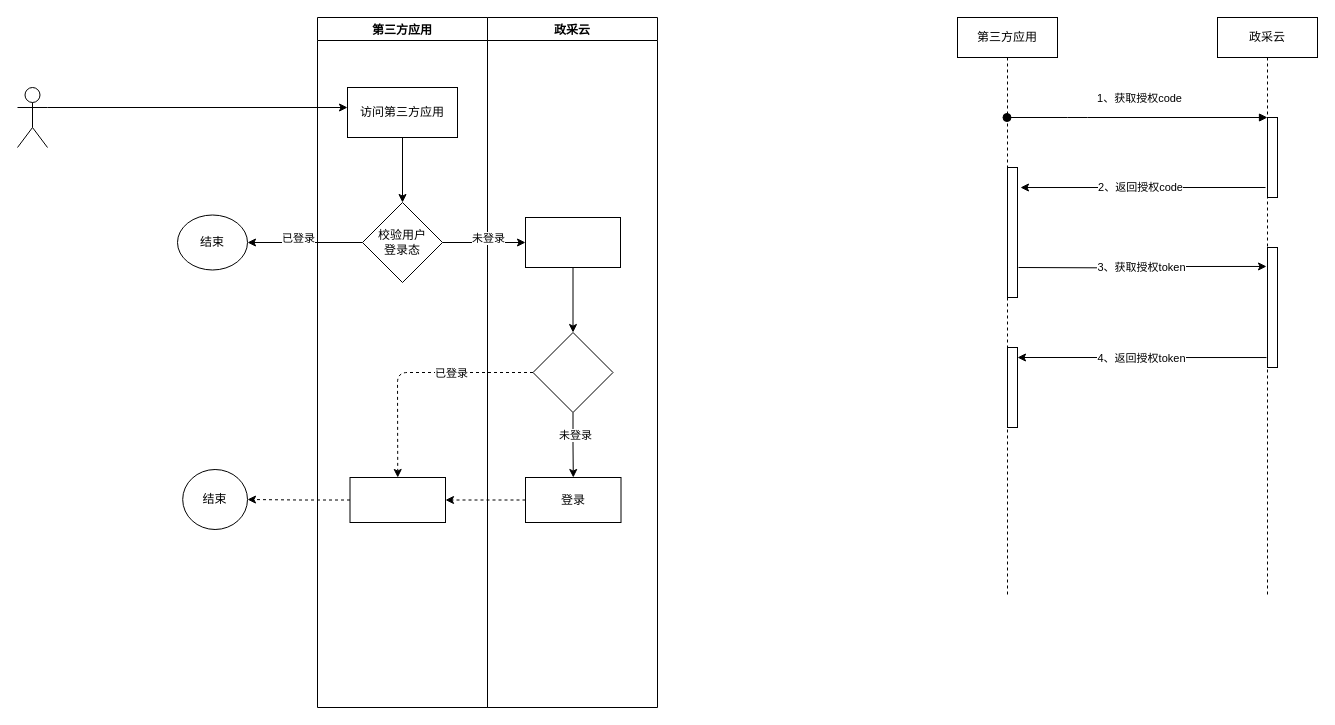
Image size: 1335x725. Some labels were removed from this diagram. Each missing label, with the centre of its shape:
"Actor" belongs at point (32, 117).
"校验登录态" belongs at point (572, 372).
"设置登录态" belongs at point (397, 499).
"请求登录" belongs at point (572, 242).
